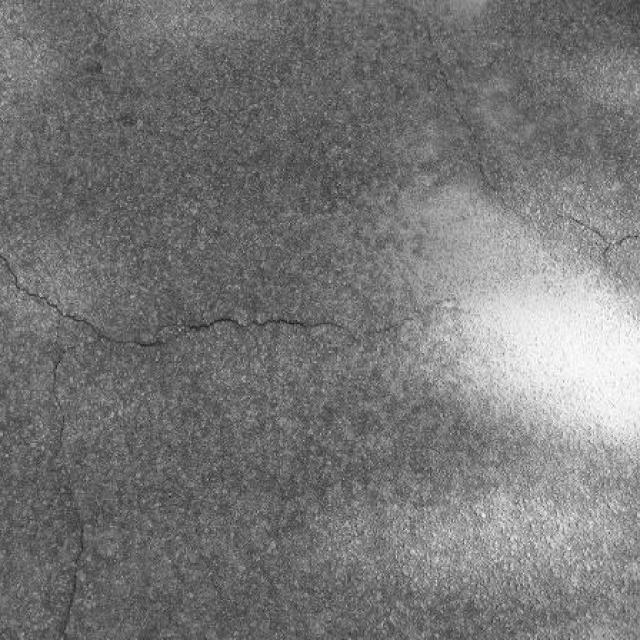Crack: (1, 258, 434, 639), (424, 22, 506, 206), (556, 212, 639, 267)
